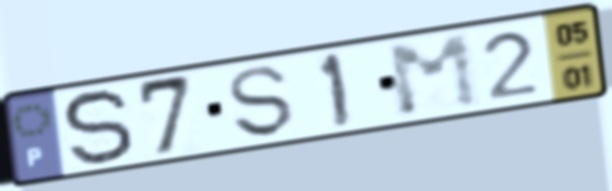1: (313, 49, 358, 133)
2: (479, 29, 543, 103)
7: (133, 72, 198, 162)
M: (382, 29, 486, 121)
S: (58, 86, 138, 171), (225, 63, 298, 140)
